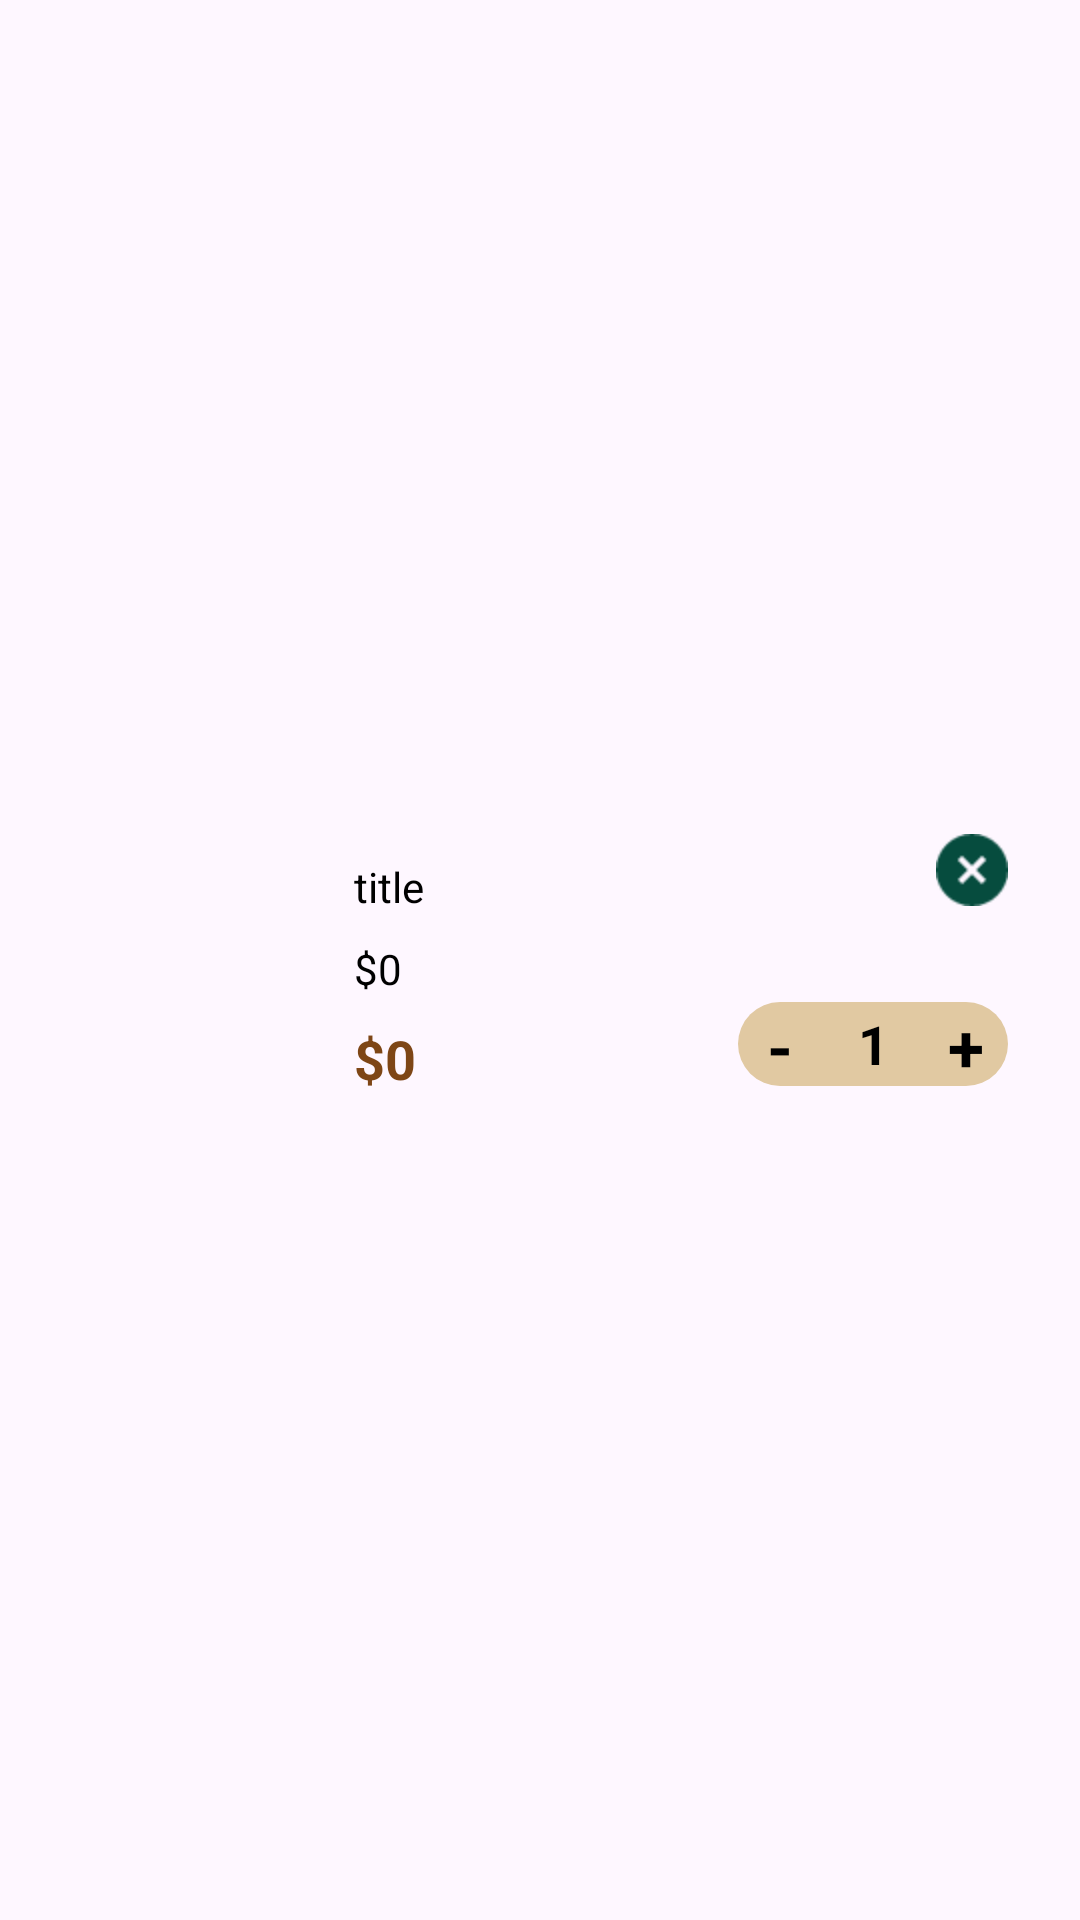

Point at icon controls on the screen. Image size 1080w x 1920h, points as (x,y).
close: (972,870)
